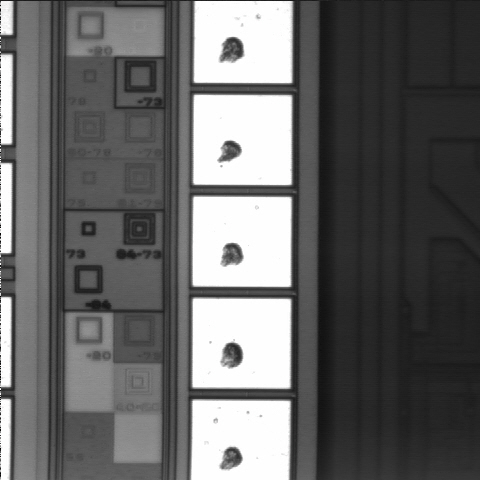pad: (193, 95, 292, 185), (192, 298, 291, 388), (193, 197, 291, 287)
